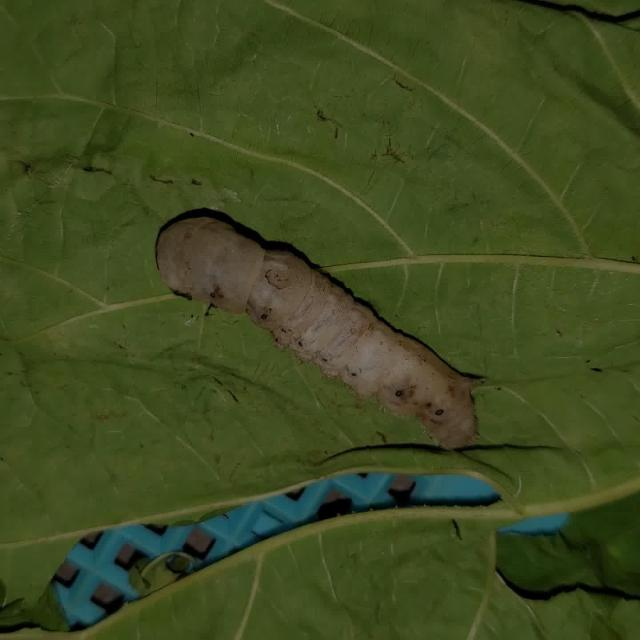Grasserie: (138, 171, 502, 474)
